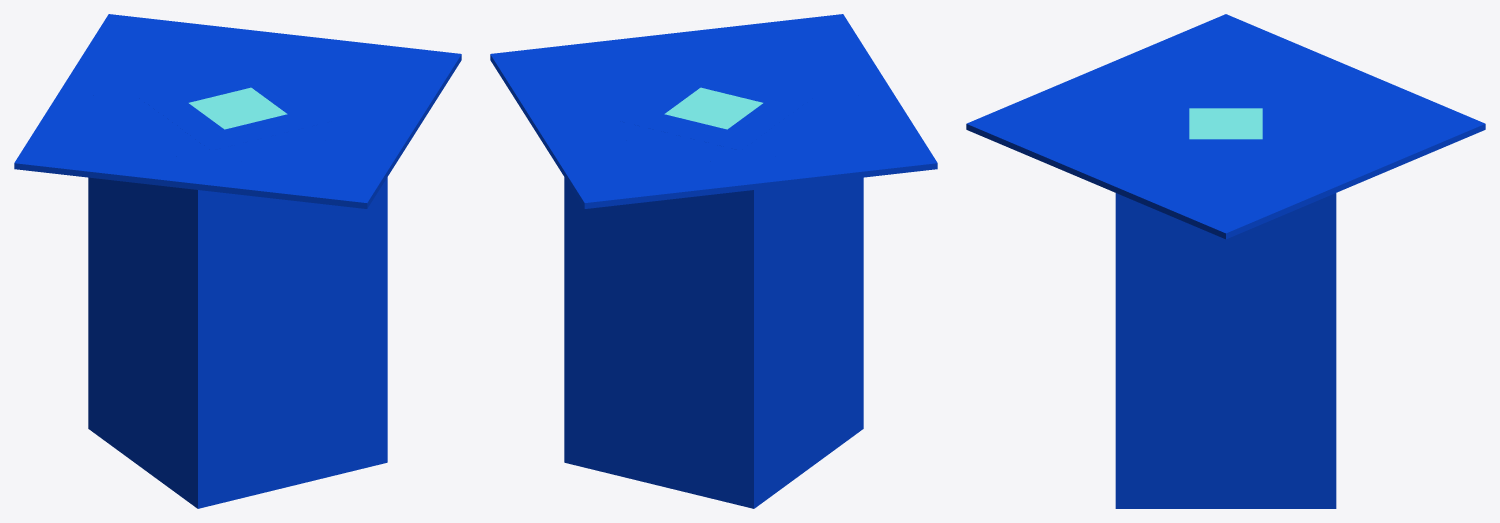
Rendered from CrystalPyramidFloors.FBX.
The picture shows the model from 3 angles, left to right: view 1: azimuth 30°, elevation 25°; view 2: azimuth 150°, elevation 25°; view 3: azimuth 270°, elevation 25°; orthographic projection.
Visible parts, largest first — view 1: Middle, Border, Inner, Center; view 2: Middle, Border, Inner, Center; view 3: Middle, Border, Inner, Center.
Part boxes in pixels (box(x1,y1,x2,y2)): Middle: box(88, 45, 387, 508); Border: box(14, 14, 461, 208); Inner: box(138, 66, 337, 150); Center: box(189, 87, 287, 129); Middle: box(564, 45, 863, 508); Border: box(490, 14, 937, 208); Inner: box(614, 66, 813, 150); Center: box(664, 87, 762, 129); Middle: box(1115, 77, 1336, 508); Border: box(966, 14, 1485, 239); Inner: box(1152, 92, 1299, 154); Center: box(1189, 108, 1262, 139).
Size of the model in its own units: 141 by 102 by 141.
